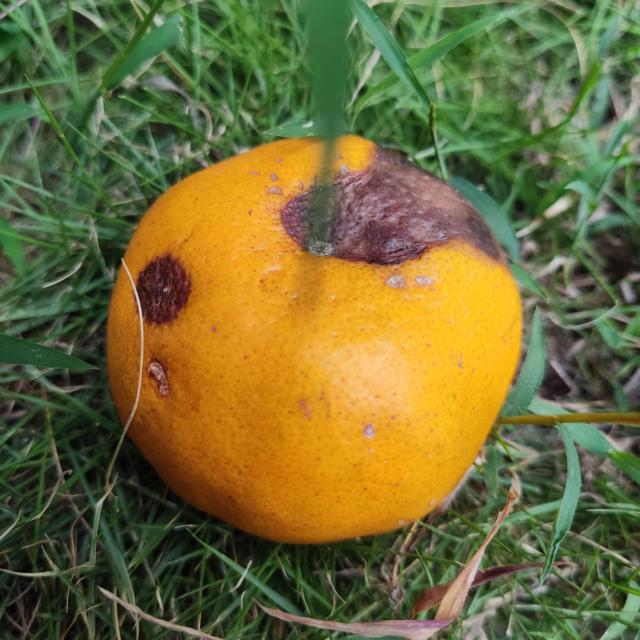orange: (110, 132, 522, 546)
